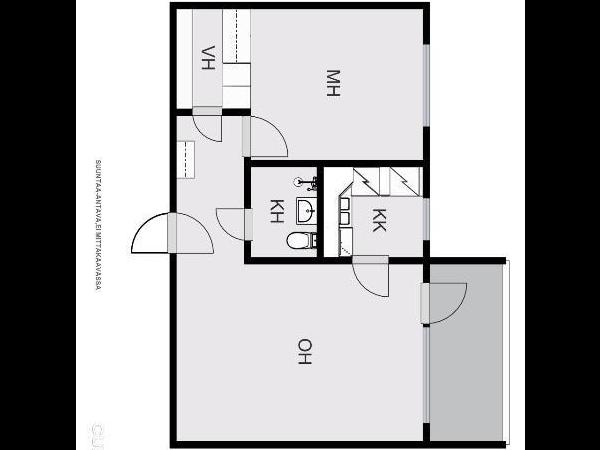door: (416, 280, 470, 326), (128, 210, 177, 258), (240, 114, 290, 161), (167, 210, 217, 256), (347, 252, 390, 299), (214, 204, 254, 242), (187, 111, 223, 144)
window: (418, 324, 432, 429), (419, 36, 432, 133), (420, 194, 432, 246)
